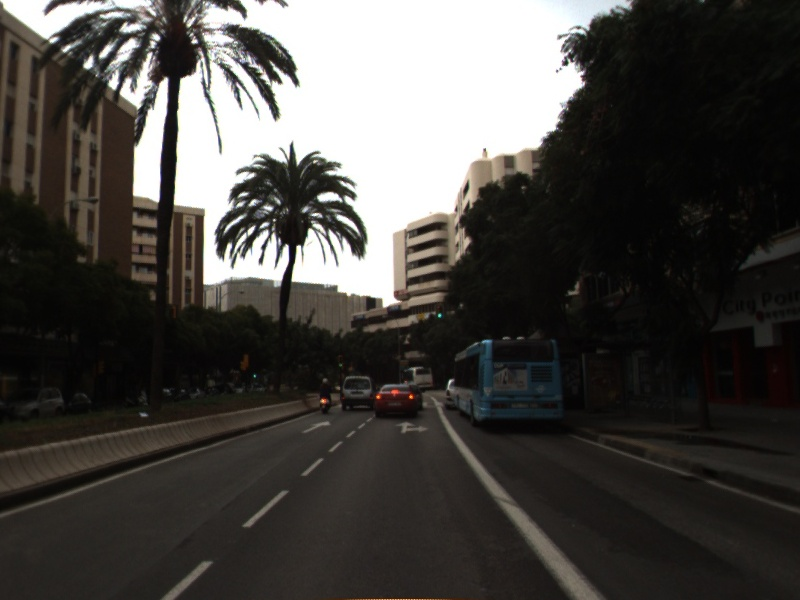STRAIGHT: (299, 418, 333, 435)
STRAIGHT_RIGHT: (393, 419, 432, 435)
